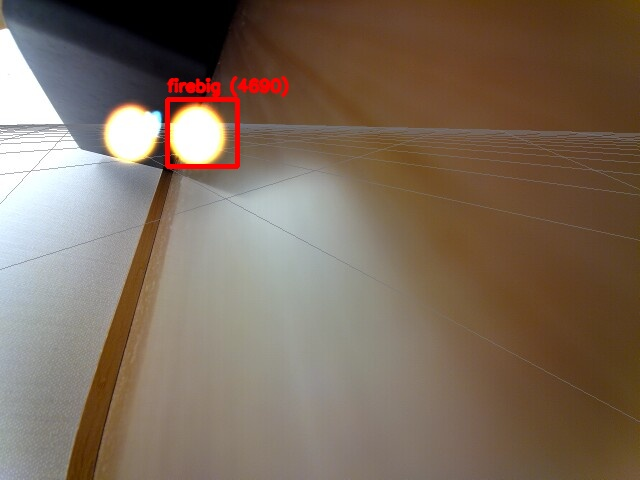firebig: (167, 99, 237, 166)
